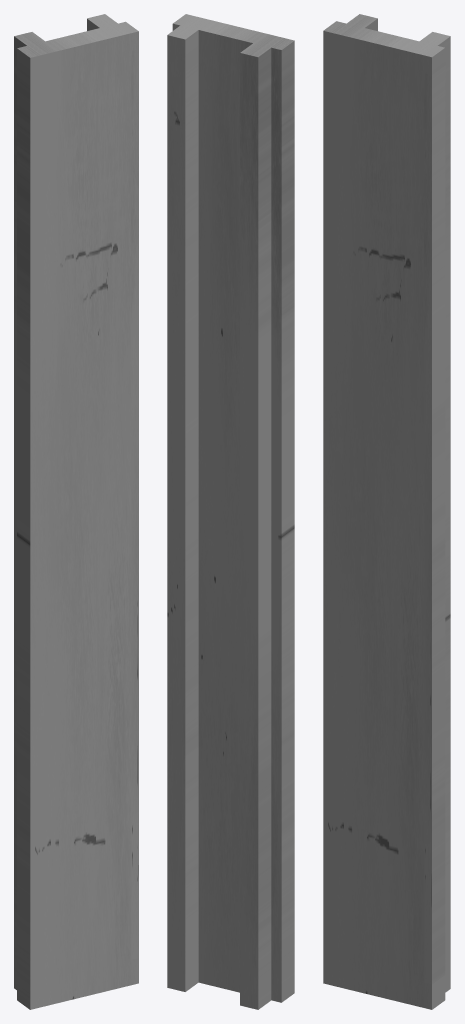
The model's file is FBX_Pillar.fbx.
3 views of the same model, side by side, from view 1: azimuth 30°, elevation 25°; view 2: azimuth 150°, elevation 25°; view 3: azimuth 330°, elevation 25° (orthographic).
Visible parts, largest first — view 1: FBX_phillar; view 2: FBX_phillar; view 3: FBX_phillar.
Part boxes in pixels (<box>): FBX_phillar: <box>14,14,138,1009</box>; FBX_phillar: <box>167,14,294,1009</box>; FBX_phillar: <box>323,14,450,1009</box>.
Size of the model in its own units: 23.91 by 200 by 10.
